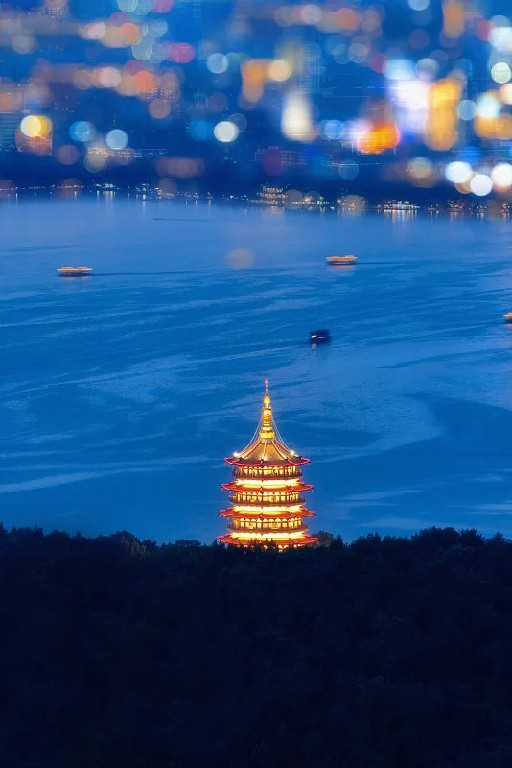Leifeng: (218, 380, 317, 557)
